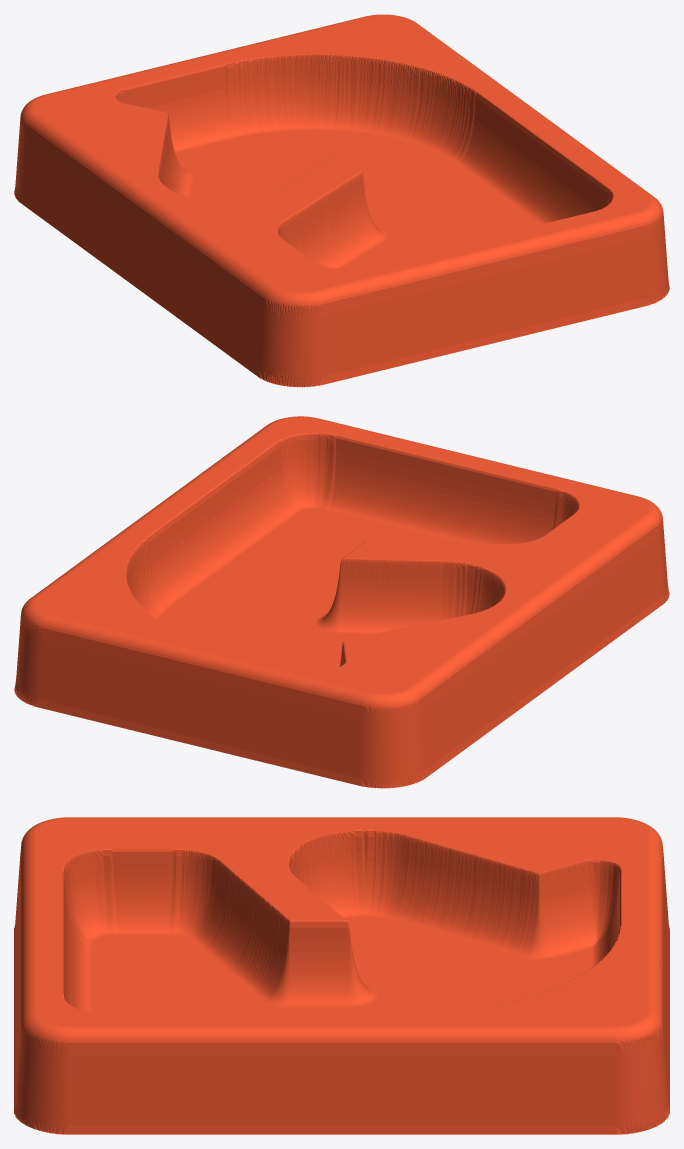
Rendered from mold.glb.
The picture shows the model from 3 angles, top to bottom: view 1: azimuth 30°, elevation 25°; view 2: azimuth 150°, elevation 25°; view 3: azimuth 270°, elevation 25°; orthographic projection. The views are drawn at different scales.
Visible parts, largest first — view 1: geometry_0; view 2: geometry_0; view 3: geometry_0.
Boxes of the visible parts, bbox=[...] form: geometry_0: bbox=[14, 14, 669, 387]; geometry_0: bbox=[14, 416, 669, 788]; geometry_0: bbox=[14, 817, 669, 1134].
Bounding box in the file's own units: 0.0858 × 0.0175 × 0.105.
